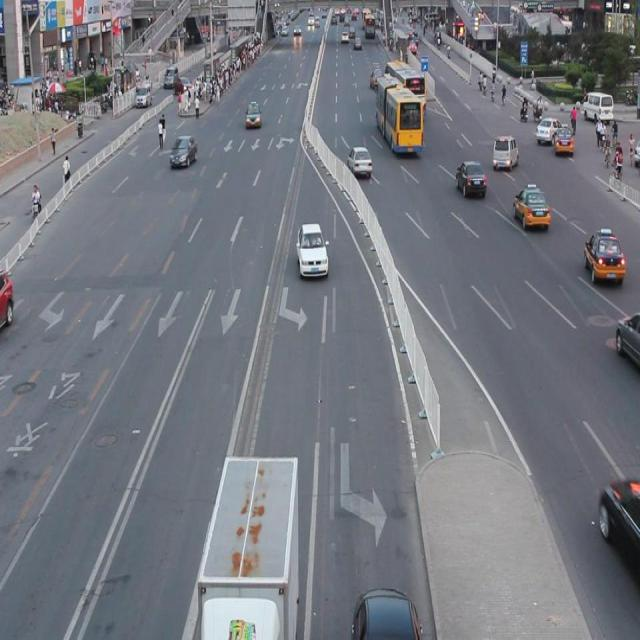bus: (197, 451, 300, 640)
car: (596, 476, 640, 572), (352, 584, 421, 640), (582, 229, 624, 283), (296, 222, 328, 278), (512, 186, 548, 229), (614, 311, 640, 369), (455, 161, 486, 197), (1, 271, 14, 330)
